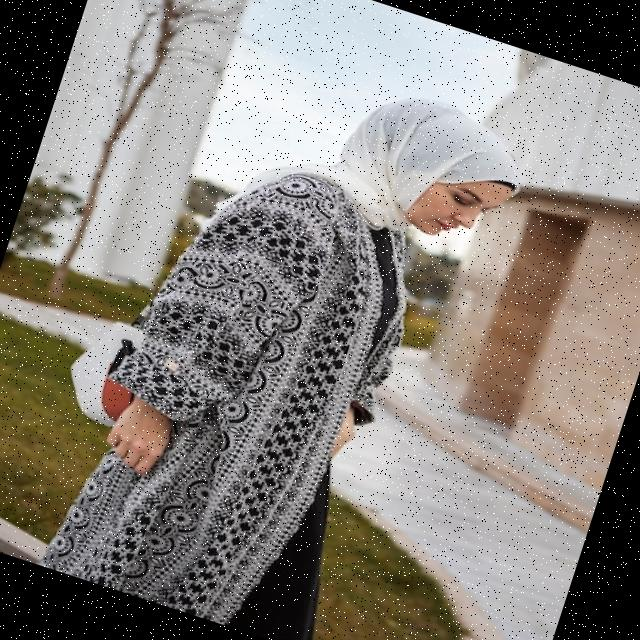Person: (11, 19, 539, 640)
